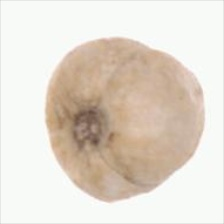L4: (45, 36, 204, 203)
